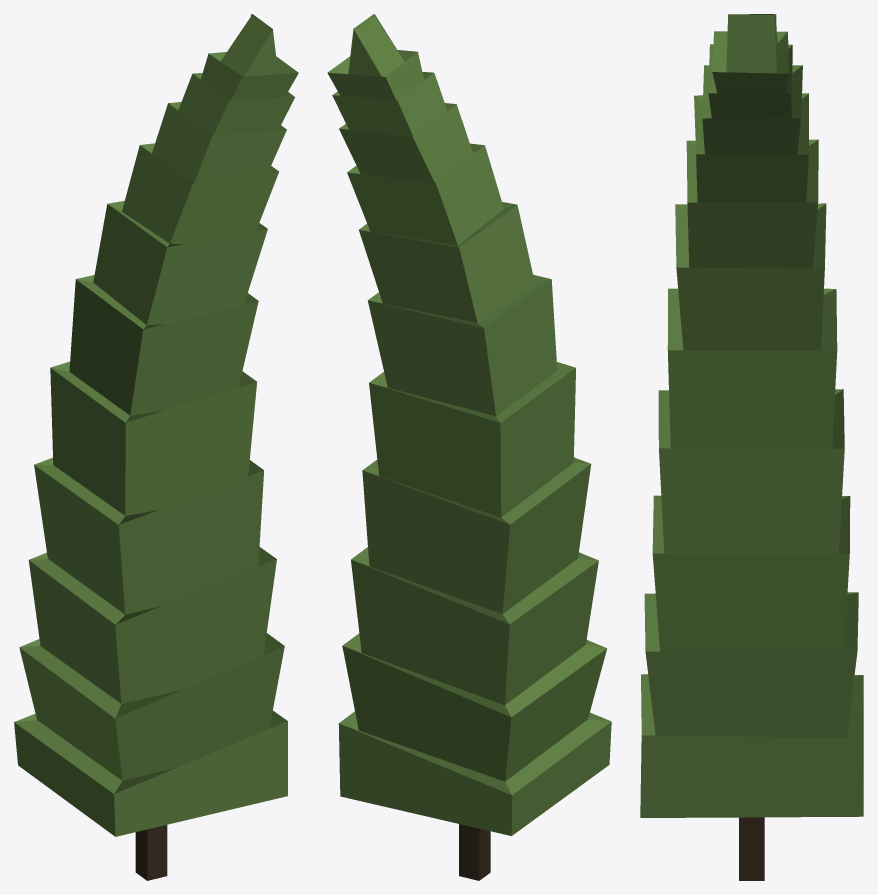
Rendered from SM_small_tee_06.glb.
3 views of the same model, side by side, from view 1: azimuth 30°, elevation 25°; view 2: azimuth 150°, elevation 25°; view 3: azimuth 270°, elevation 25° (orthographic). The views are drawn at different scales.
Visible parts, largest first — view 1: SM_small_tee_06; view 2: SM_small_tee_06; view 3: SM_small_tee_06.
Boxes of the visible parts, x1=… form: SM_small_tee_06: x1=14, y1=14, x2=298, y2=880; SM_small_tee_06: x1=327, y1=14, x2=611, y2=880; SM_small_tee_06: x1=640, y1=14, x2=863, y2=880.
Size of the model in its own units: 0.7315 by 2.64 by 0.5806.
1 material, 1 textured.
